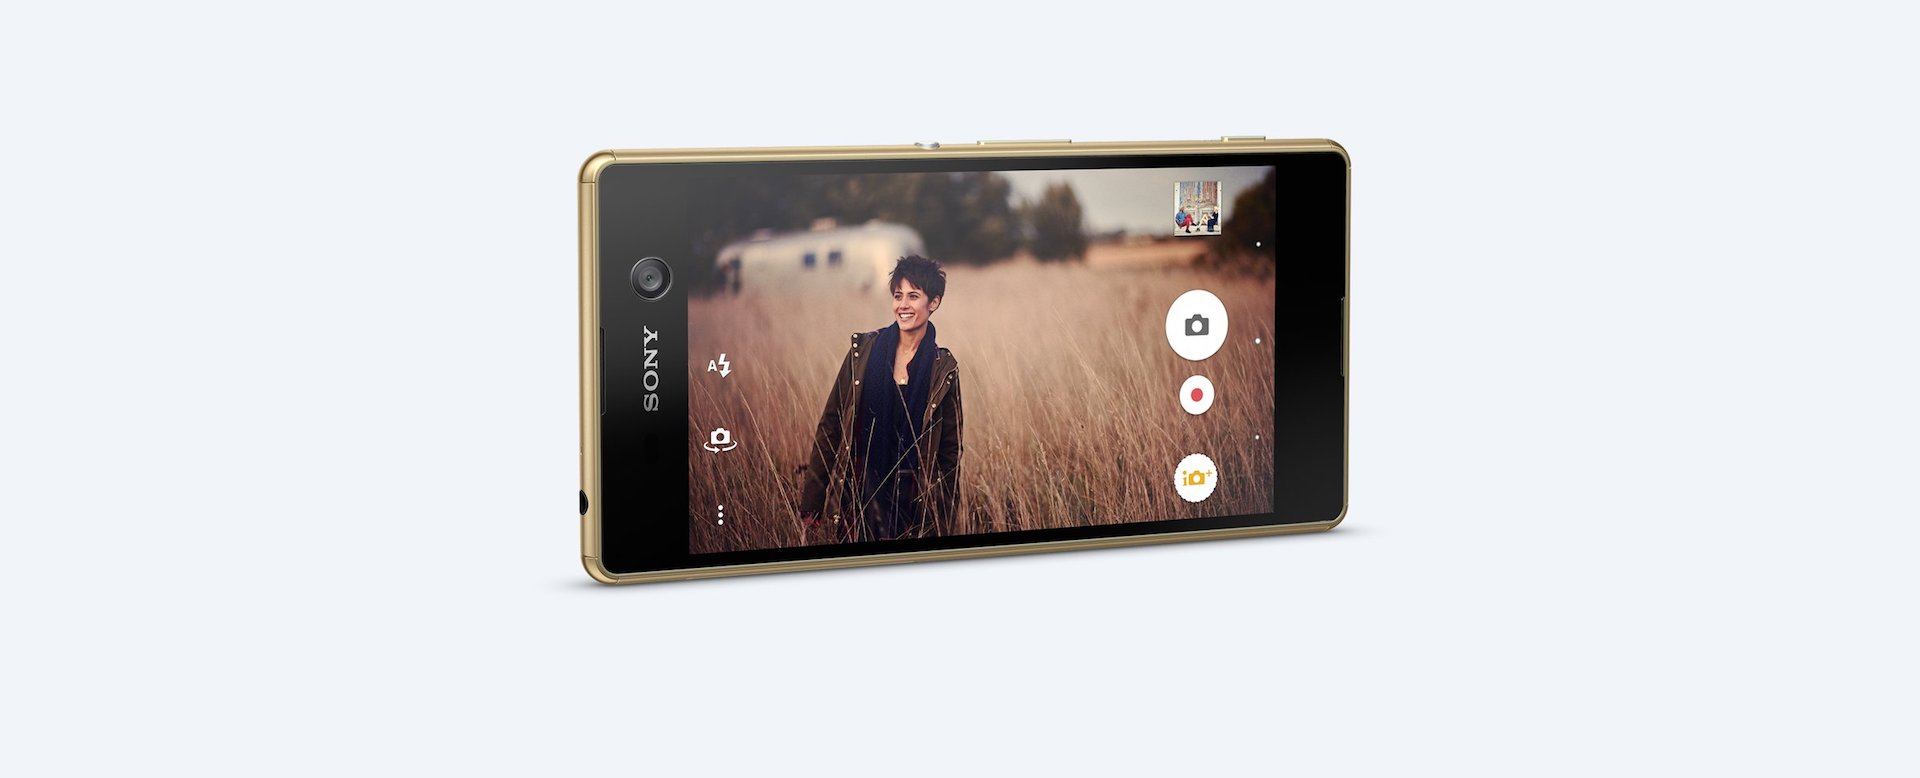smartphone: (576, 134, 1356, 589)
